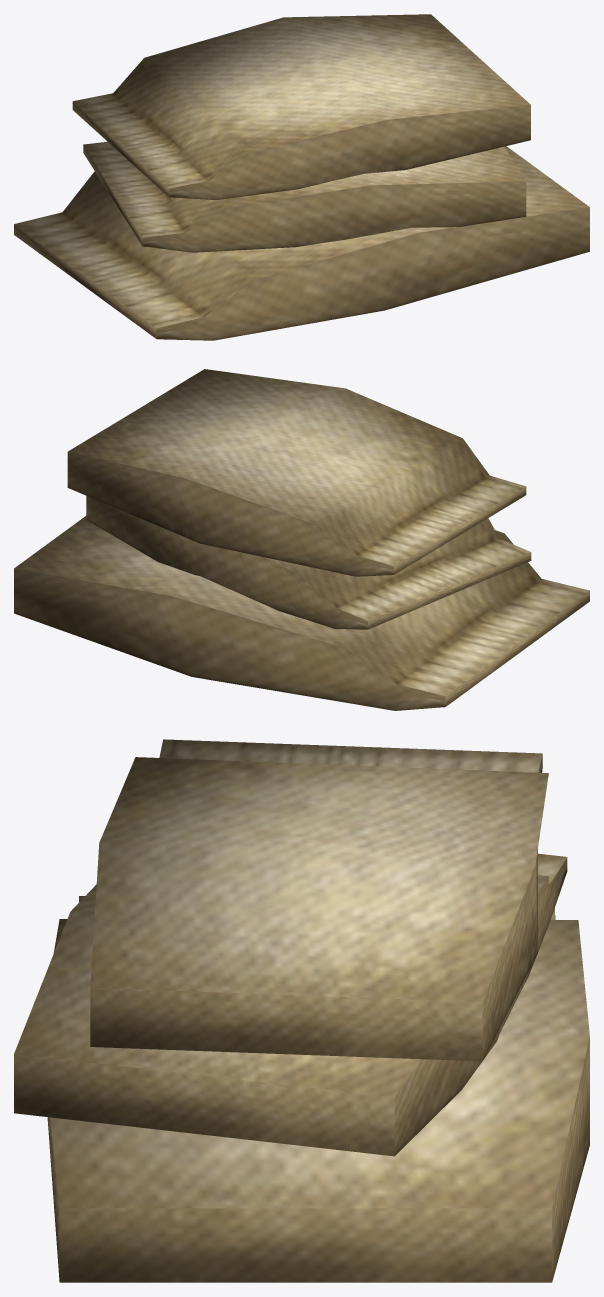
Rendered from a_SEfarm01_1.glb.
3 renders of one model, top to bottom at view 1: azimuth 30°, elevation 25°; view 2: azimuth 150°, elevation 25°; view 3: azimuth 270°, elevation 25°, orthographic. The views are drawn at different scales.
Parts seen in each view (by area): view 1: a_SEfarm01_1; view 2: a_SEfarm01_1; view 3: a_SEfarm01_1.
Part boxes in pixels (box(x1,y1,x2,y2)): a_SEfarm01_1: box(14, 14, 589, 340); a_SEfarm01_1: box(14, 369, 589, 710); a_SEfarm01_1: box(14, 739, 589, 1282).
Bounding box in the file's own units: 0.9519 × 0.3802 × 0.666.
Materials: 1 (1 with a texture image).
